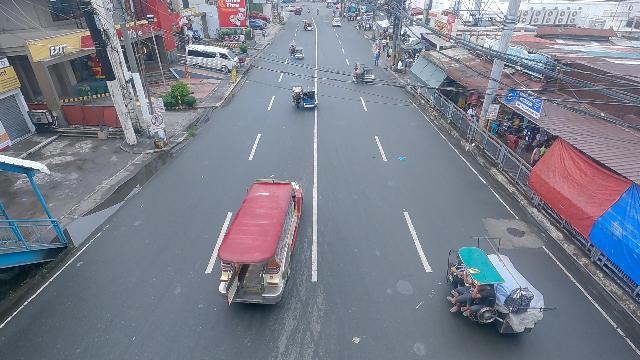car: (331, 18, 341, 27), (294, 7, 302, 15)
jeepney: (217, 176, 305, 308)
motorcycle: (316, 8, 319, 16), (307, 6, 310, 13)
